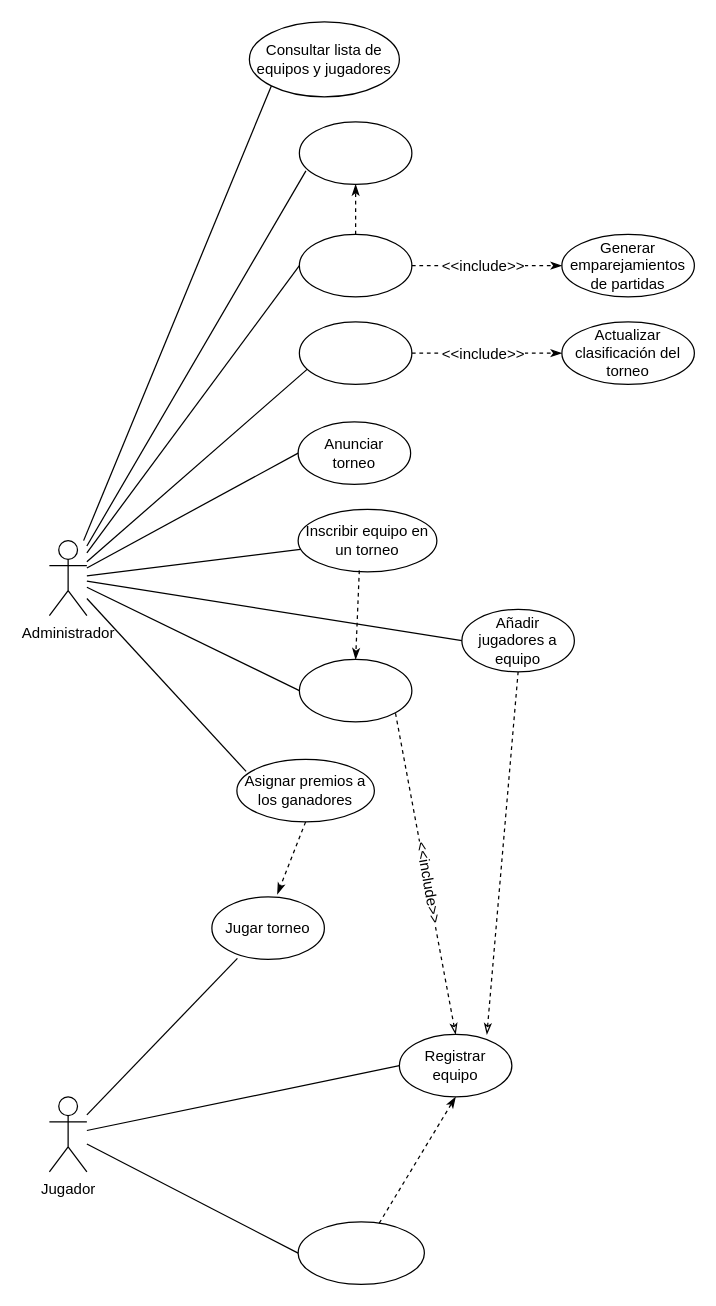
The diagram is 716 pixels wide and 1306 high, and some of its shapes have lost their labels. The centre of each missing label's shape, as x and y in pixels:
"Crear torneo" belongs at (x=355, y=152).
"Dar de baja equipo/jugador" belongs at (x=360, y=1252).
"Gestionar torneo" belongs at (x=355, y=265).
"Registrar resultados de una partida" belongs at (x=355, y=352).
"Validar inscripción de equipos" belongs at (x=355, y=690).
